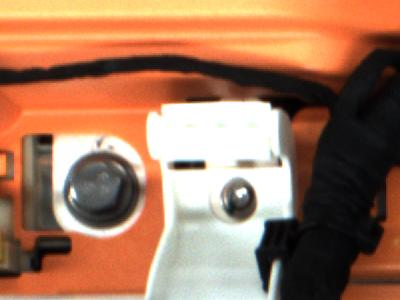nut_b: (55, 143, 149, 233)
